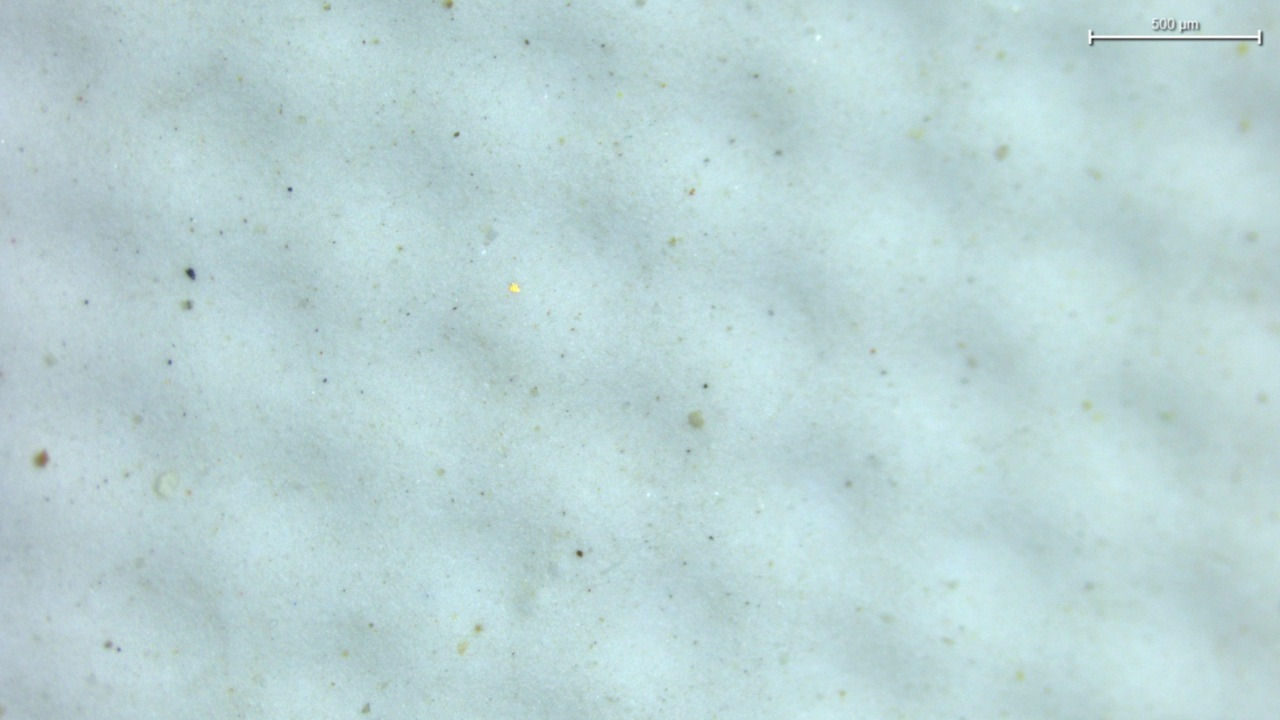microplastic_fragment: (509, 283, 519, 292)
